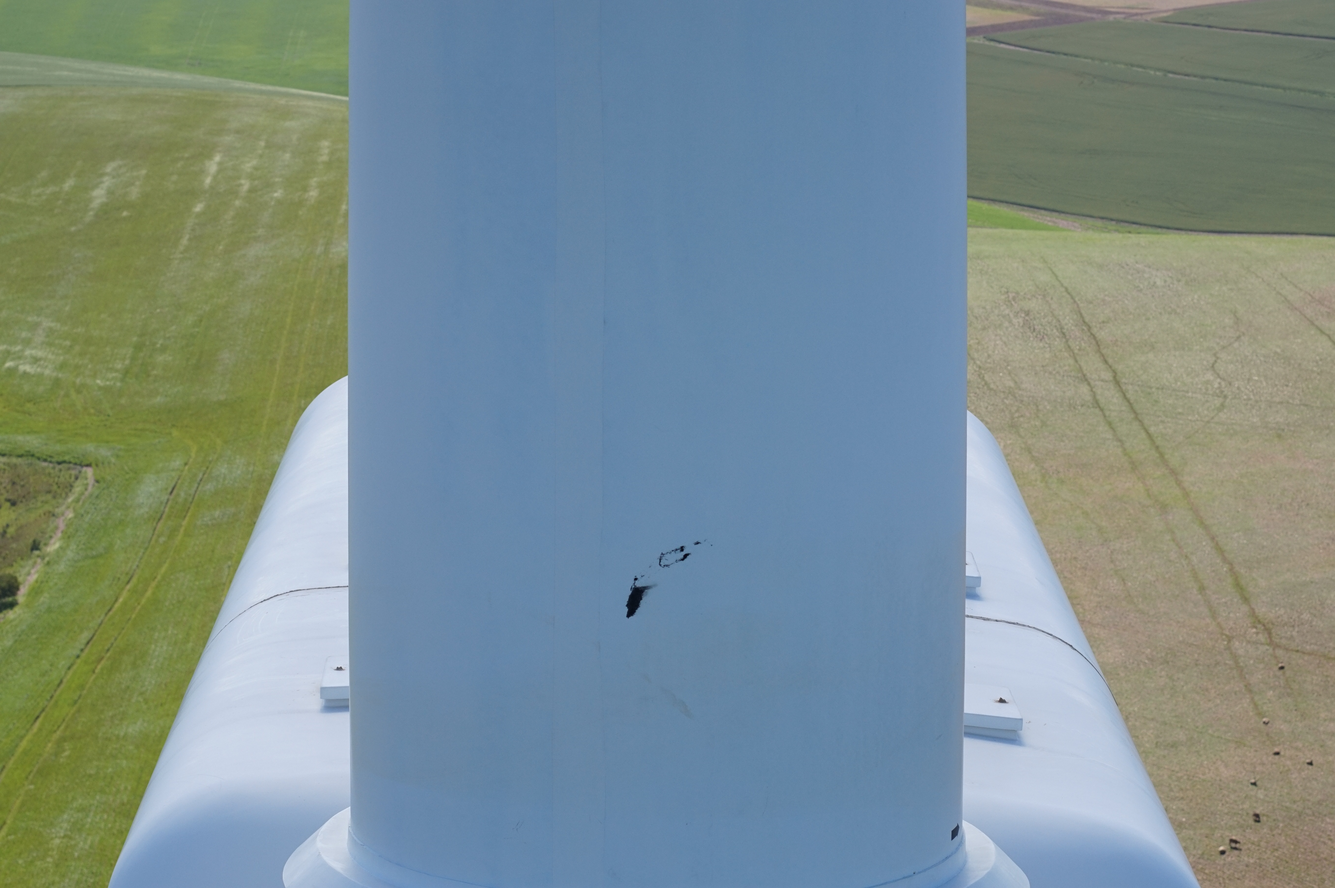Dirt: (625, 578, 655, 620)
